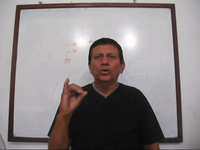oi: (58, 77, 87, 113)
